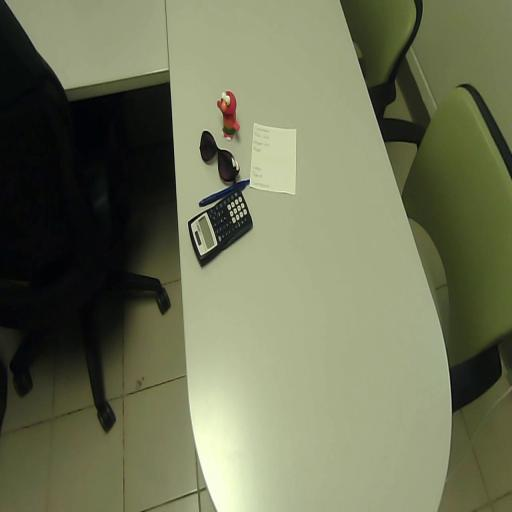pen: (198, 181, 249, 206)
